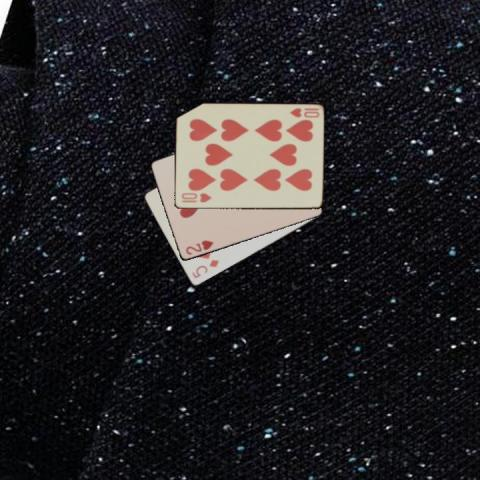10h: (178, 190, 213, 204), (286, 105, 320, 119)
2h: (182, 237, 214, 257)
5d: (188, 257, 220, 280)
